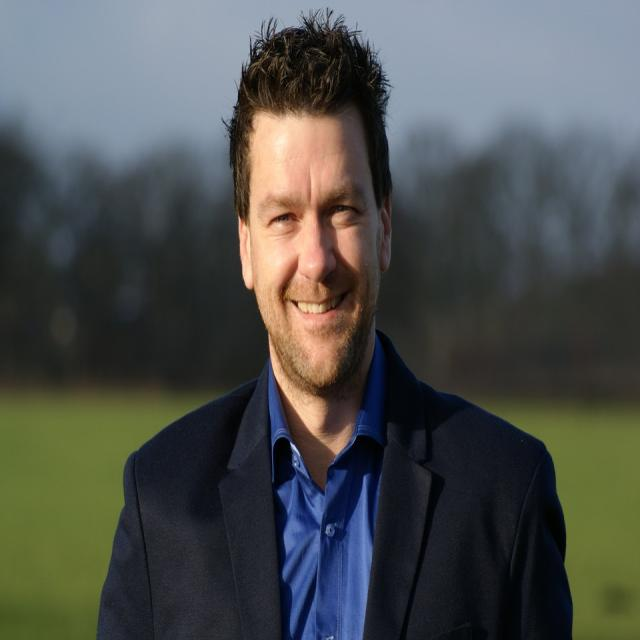mobile_phonerotation: (95, 7, 574, 638)
